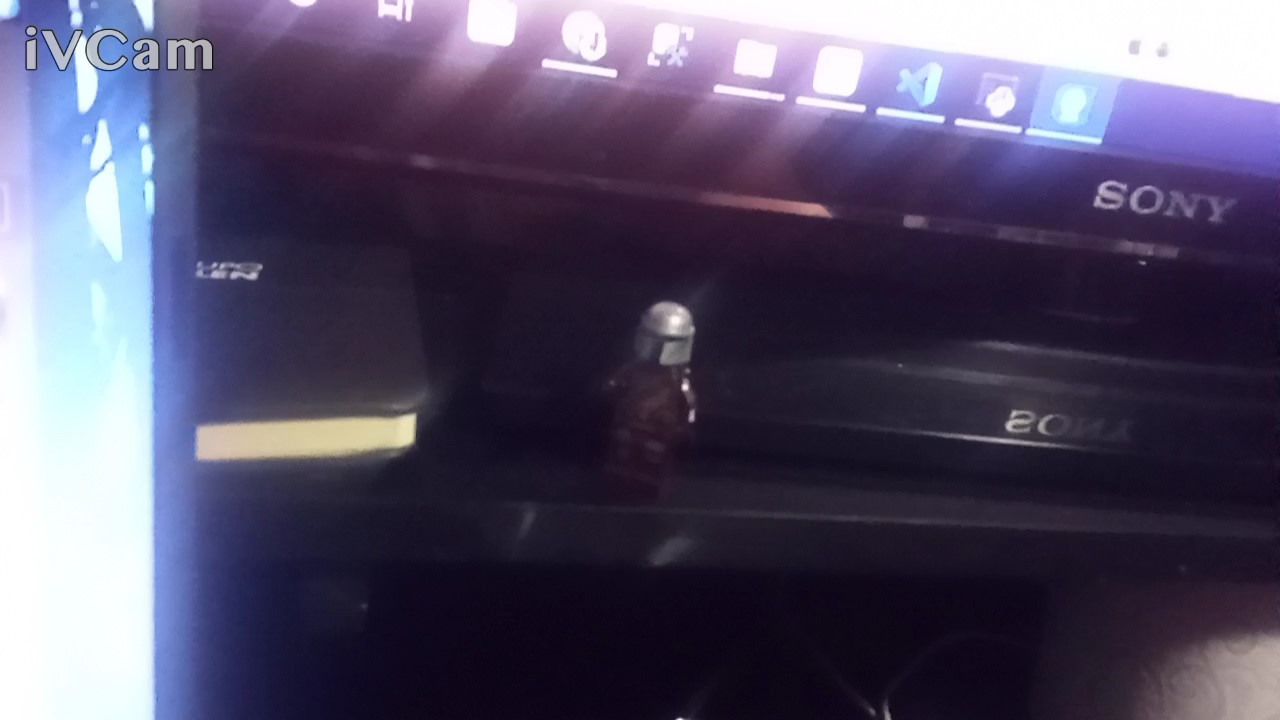mandalorian: (603, 293, 708, 528)
